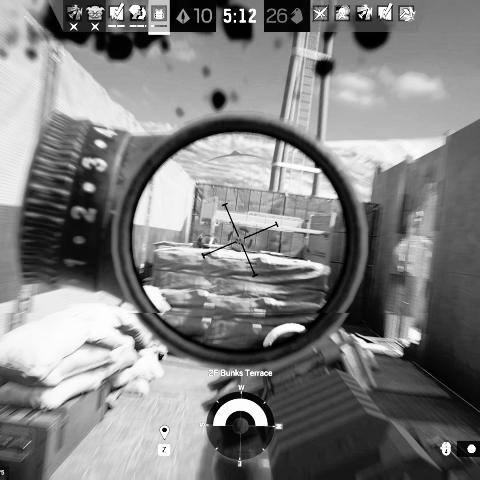Character: (191, 233, 219, 249)
Head: (195, 233, 218, 248)
